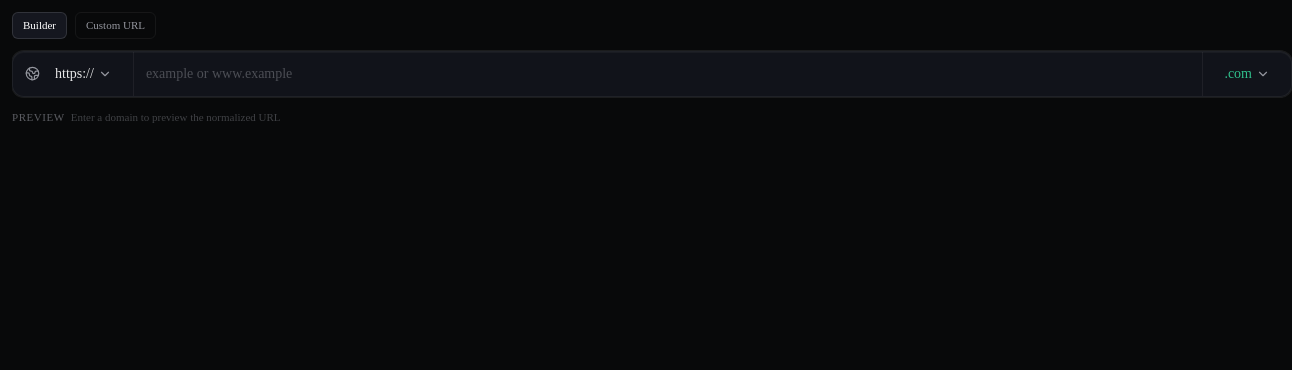
Test case: SmartUrlInput › composes selected TLD
Step 1. Type "acme" into the dropdown with test id "scan-url-input" → (668, 74), box [146, 64, 1190, 84]
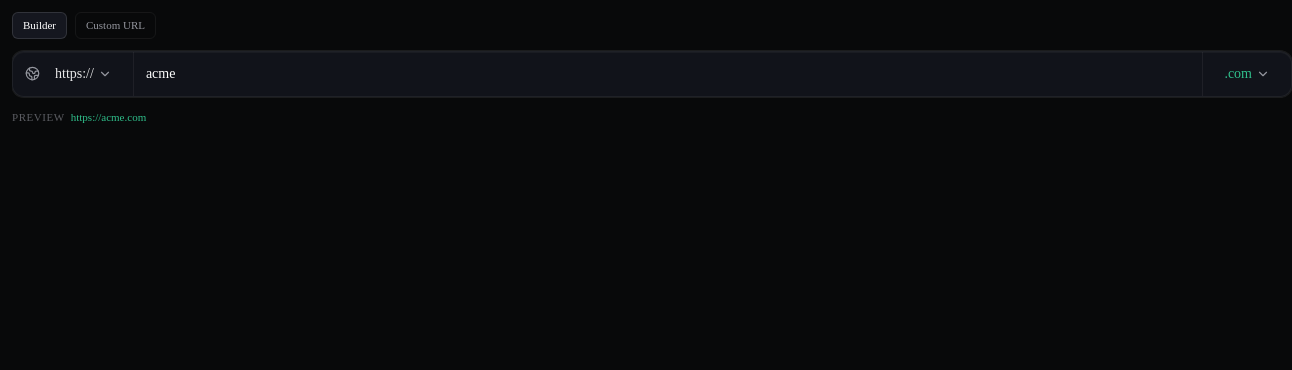
Step 2. Click the button with test id "url-tld-select" → (1247, 74), box [1215, 56, 1279, 90]
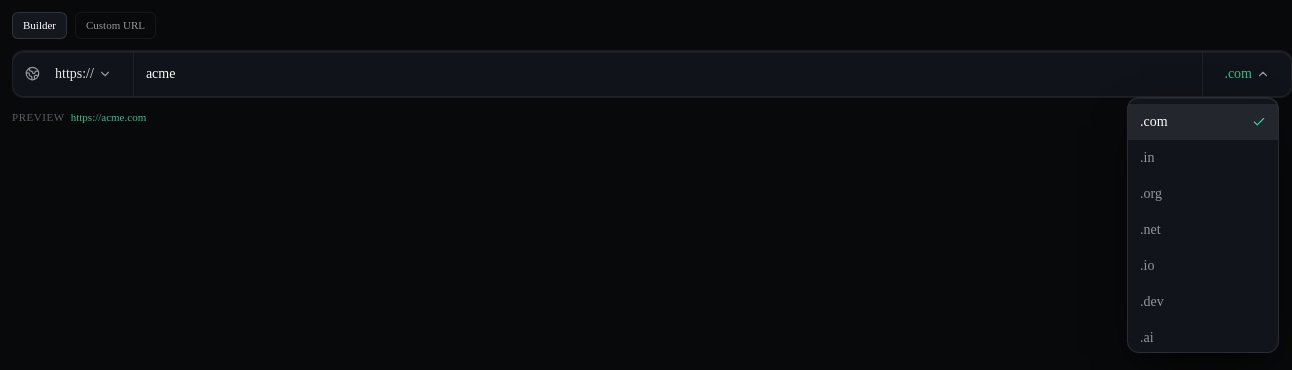
Step 3. Click the option with test id "url-tld-select-option-io" → (1203, 266), box [1128, 248, 1278, 284]
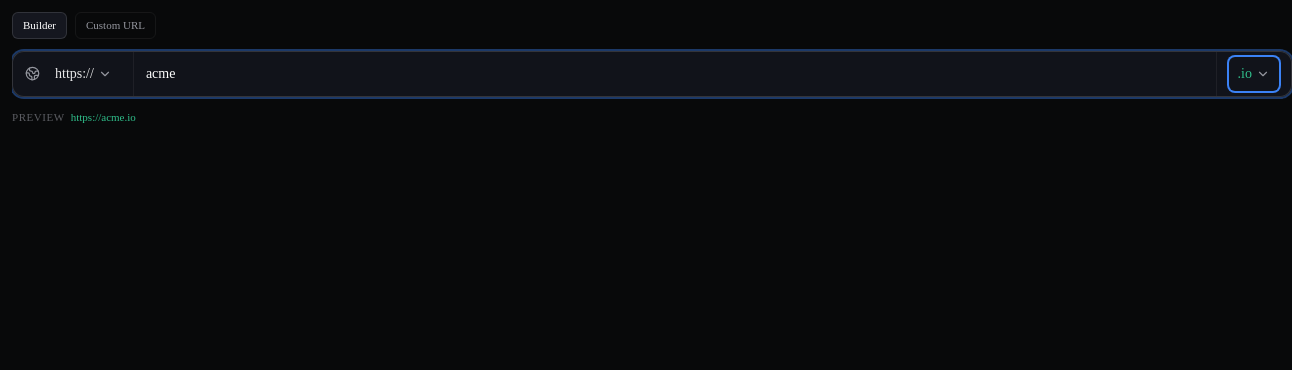
Check: the text "https://acme.io" is shown, box [71, 110, 136, 122]
